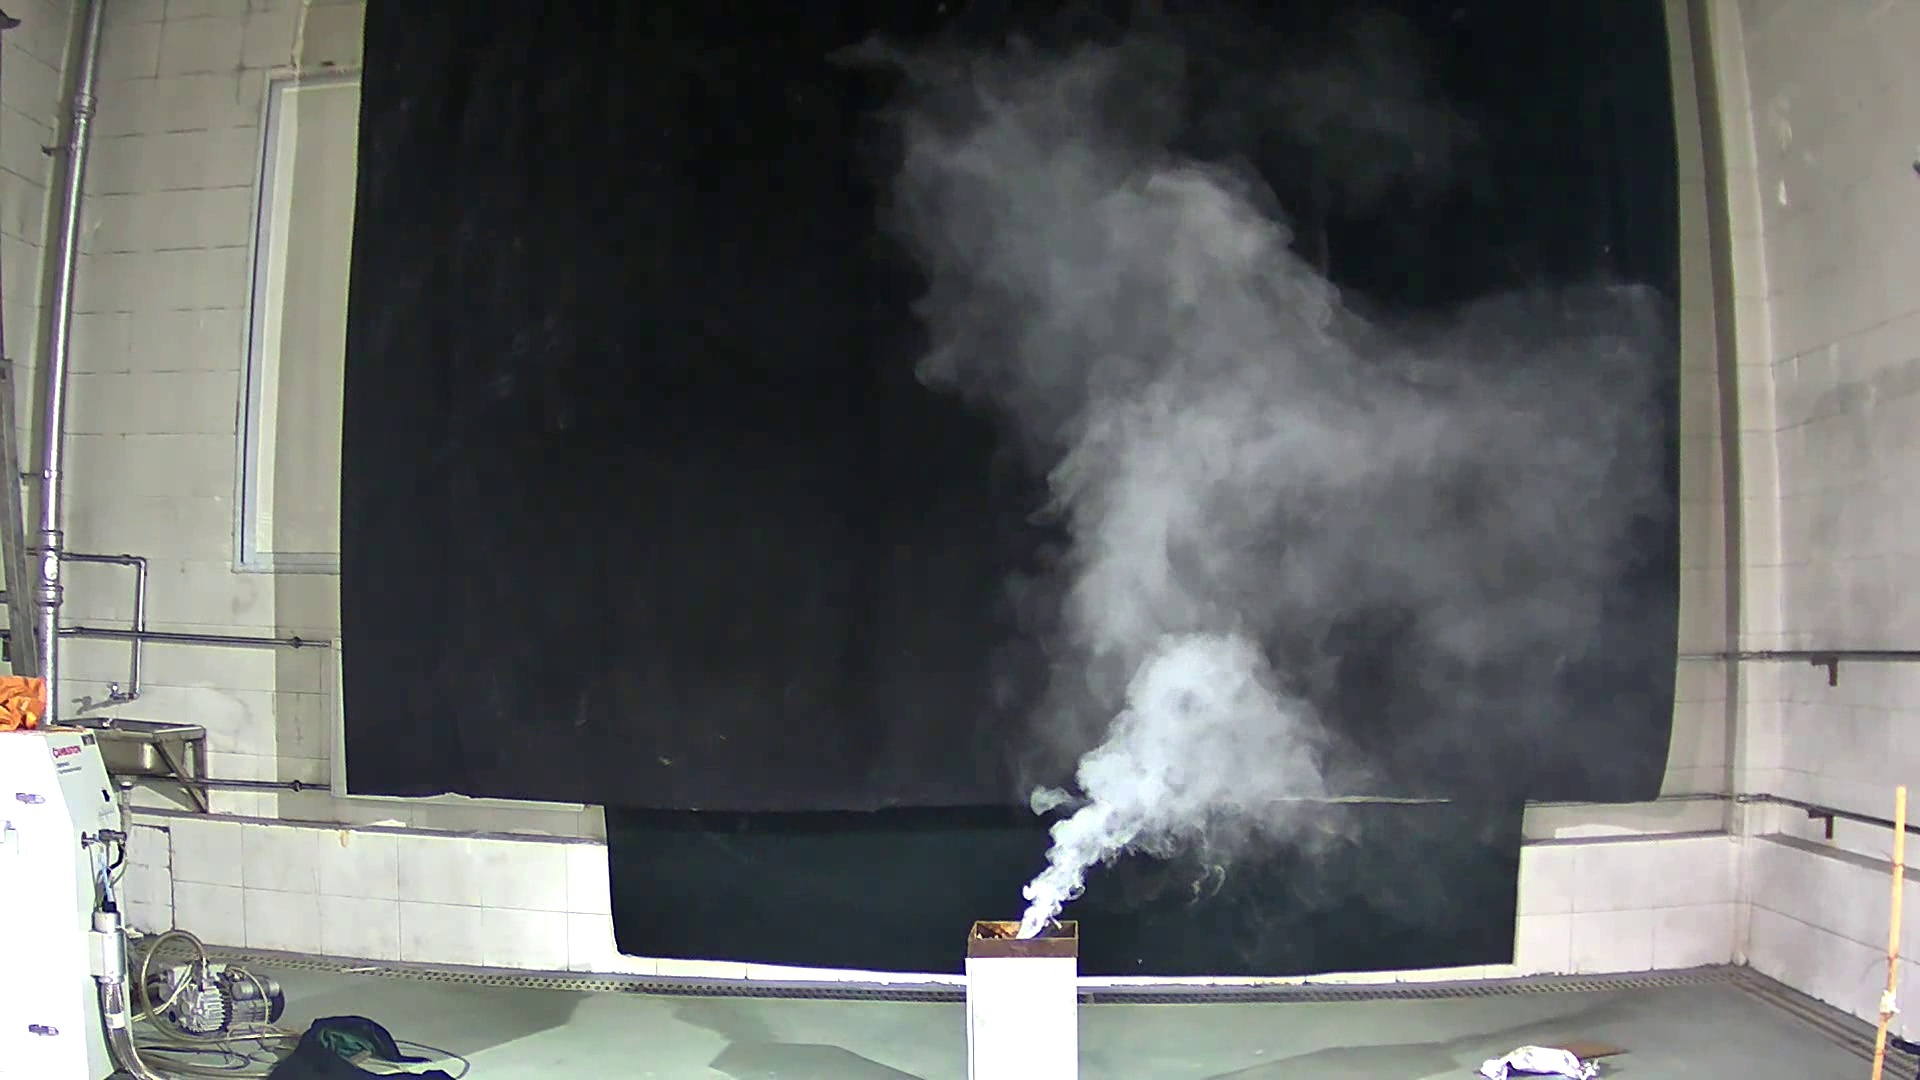smoke: (872, 99, 1654, 943)
